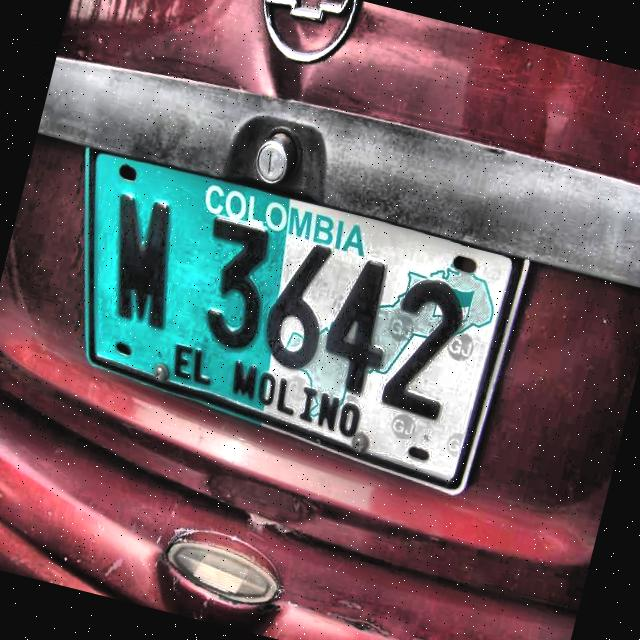plate: (92, 154, 517, 488)
